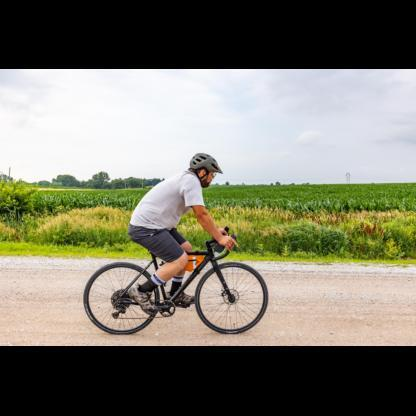Bicycle: (71, 226, 280, 347)
